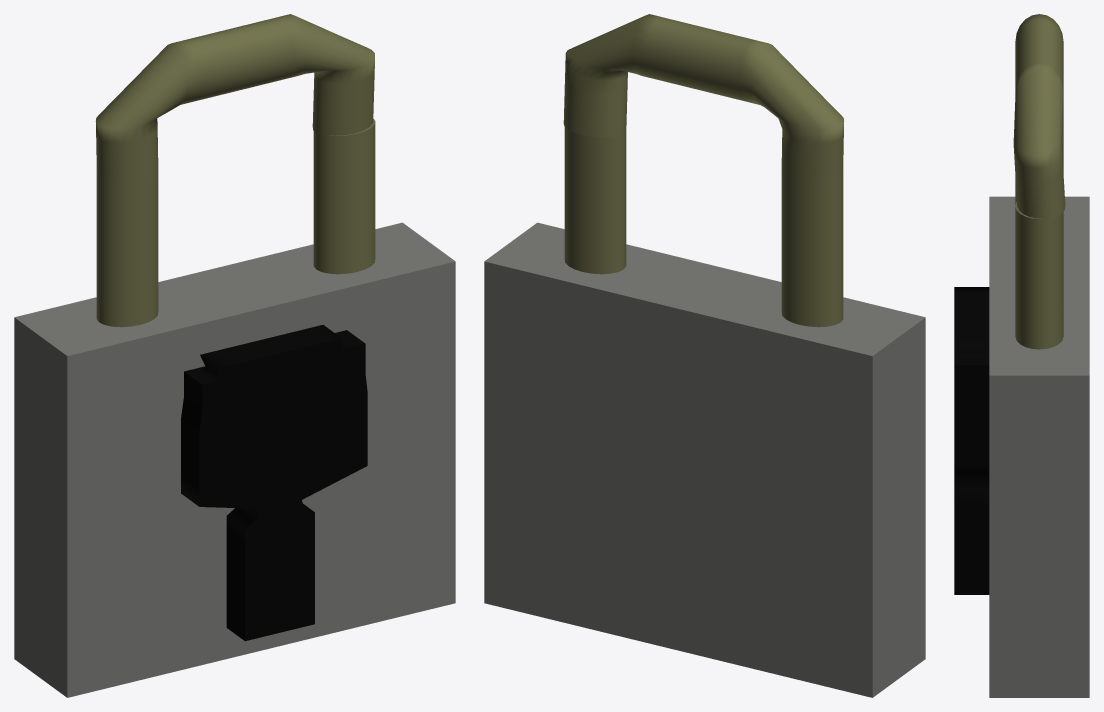
The model's file is lock.fbx.
3 renders of one model, left to right at view 1: azimuth 30°, elevation 25°; view 2: azimuth 150°, elevation 25°; view 3: azimuth 270°, elevation 25°, orthographic. The views are drawn at different scales.
Visible parts, largest first — view 1: pCube1, pCube2, pCylinder3, pCylinder2, pCylinder1; view 2: pCube1, pCylinder3, pCylinder2, pCylinder1; view 3: pCube1, pCube2, pCylinder3, pCylinder1.
Boxes of the visible parts, x1,y1,x2,y2 form: pCube1: (14,222,455,697); pCube2: (181,325,367,641); pCylinder3: (95,14,374,186); pCylinder2: (96,159,158,327); pCylinder1: (313,119,375,274); pCube1: (484,222,925,697); pCylinder3: (563,14,844,186); pCylinder2: (781,159,843,327); pCylinder1: (564,127,626,274); pCube1: (989,196,1089,697); pCube2: (954,287,989,594); pCylinder3: (1013,14,1065,220); pCylinder1: (1015,202,1063,349).
Bounding box in the file's own units: 10 × 14.79 × 3.2.
